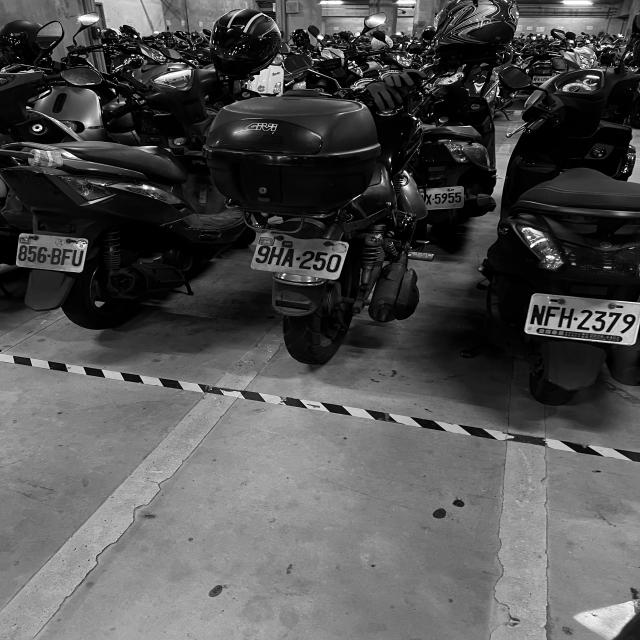-: (573, 317, 579, 322), (295, 257, 301, 261), (47, 254, 51, 257), (432, 198, 434, 200)
0: (324, 252, 344, 274)
2: (576, 308, 594, 332), (298, 250, 317, 271)
3: (590, 310, 608, 333)
5: (311, 251, 330, 273), (26, 245, 38, 263), (434, 193, 442, 204), (455, 192, 462, 203), (448, 192, 454, 204)
6: (36, 246, 49, 264)
7: (605, 311, 624, 334)
8: (17, 244, 29, 262)
9: (619, 313, 637, 336), (253, 244, 273, 264), (442, 193, 448, 204)
A: (280, 247, 298, 268)
B: (50, 247, 62, 265)
F: (542, 305, 561, 328), (60, 248, 73, 266)
H: (557, 307, 575, 329), (267, 246, 285, 266)
N: (530, 304, 547, 326)
U: (15, 233, 89, 272), (71, 248, 84, 266)
X: (427, 194, 432, 205)
plate: (526, 294, 640, 346), (250, 233, 349, 279)
